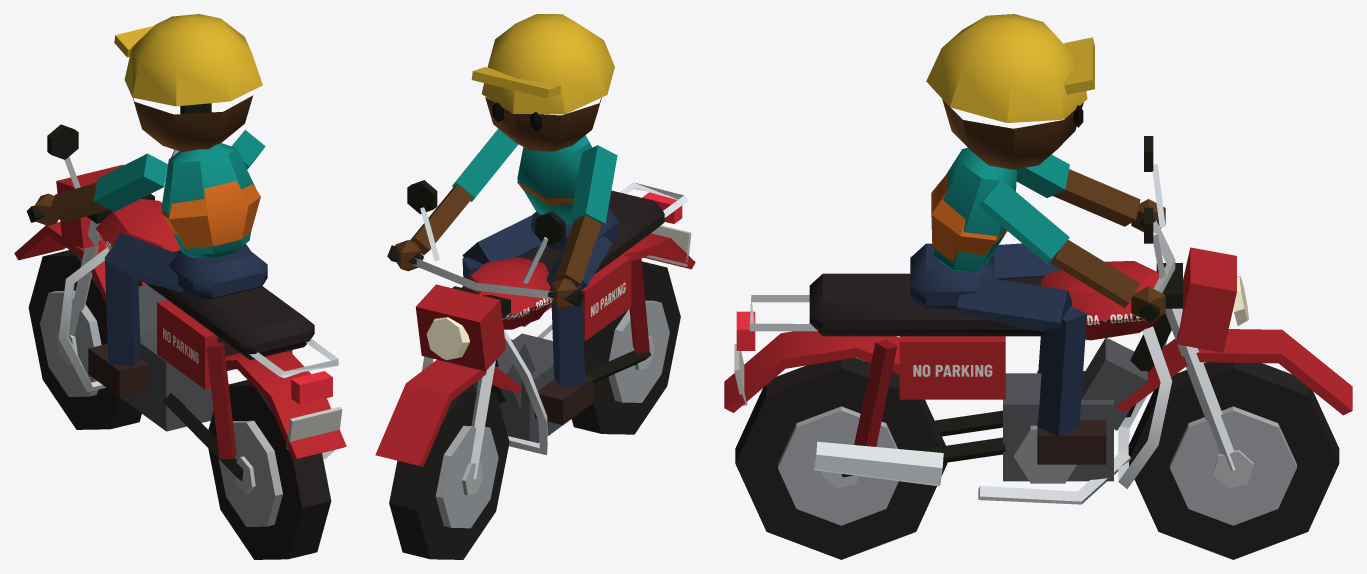
File: okada_lod1.glb
3 renders of one model, left to right at view 1: azimuth 30°, elevation 25°; view 2: azimuth 150°, elevation 25°; view 3: azimuth 270°, elevation 25°, orthographic. The views are drawn at different scales.
Parts seen in each view (by area): view 1: rider, okada_body, wheel_R, wheel_F; view 2: okada_body, rider, wheel_F, wheel_R, okada_decals; view 3: okada_body, rider, wheel_F, wheel_R, okada_decals.
Part boxes in pixels (<box>): rider: <box>35,14,267,397</box>; okada_body: <box>14,103,346,481</box>; wheel_R: <box>208,380,331,559</box>; wheel_F: <box>28,250,141,429</box>; okada_body: <box>375,180,695,478</box>; rider: <box>395,14,619,424</box>; wheel_F: <box>389,386,509,559</box>; wheel_R: <box>571,261,680,434</box>; okada_decals: <box>503,282,625,319</box>; okada_body: <box>724,136,1352,504</box>; rider: <box>910,14,1165,464</box>; wheel_F: <box>1128,362,1339,559</box>; wheel_R: <box>735,357,947,559</box>; okada_decals: <box>913,313,1144,376</box>.
Size of the model in its own units: 0.94 by 2.21 by 2.37.
Materials: 3 (1 with a texture image).
